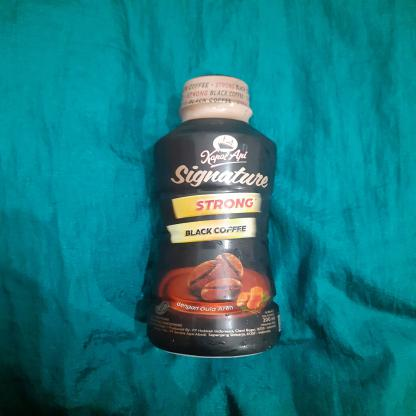bottle: (140, 69, 286, 361)
